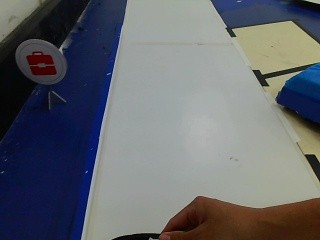company: (13, 42, 64, 86)
